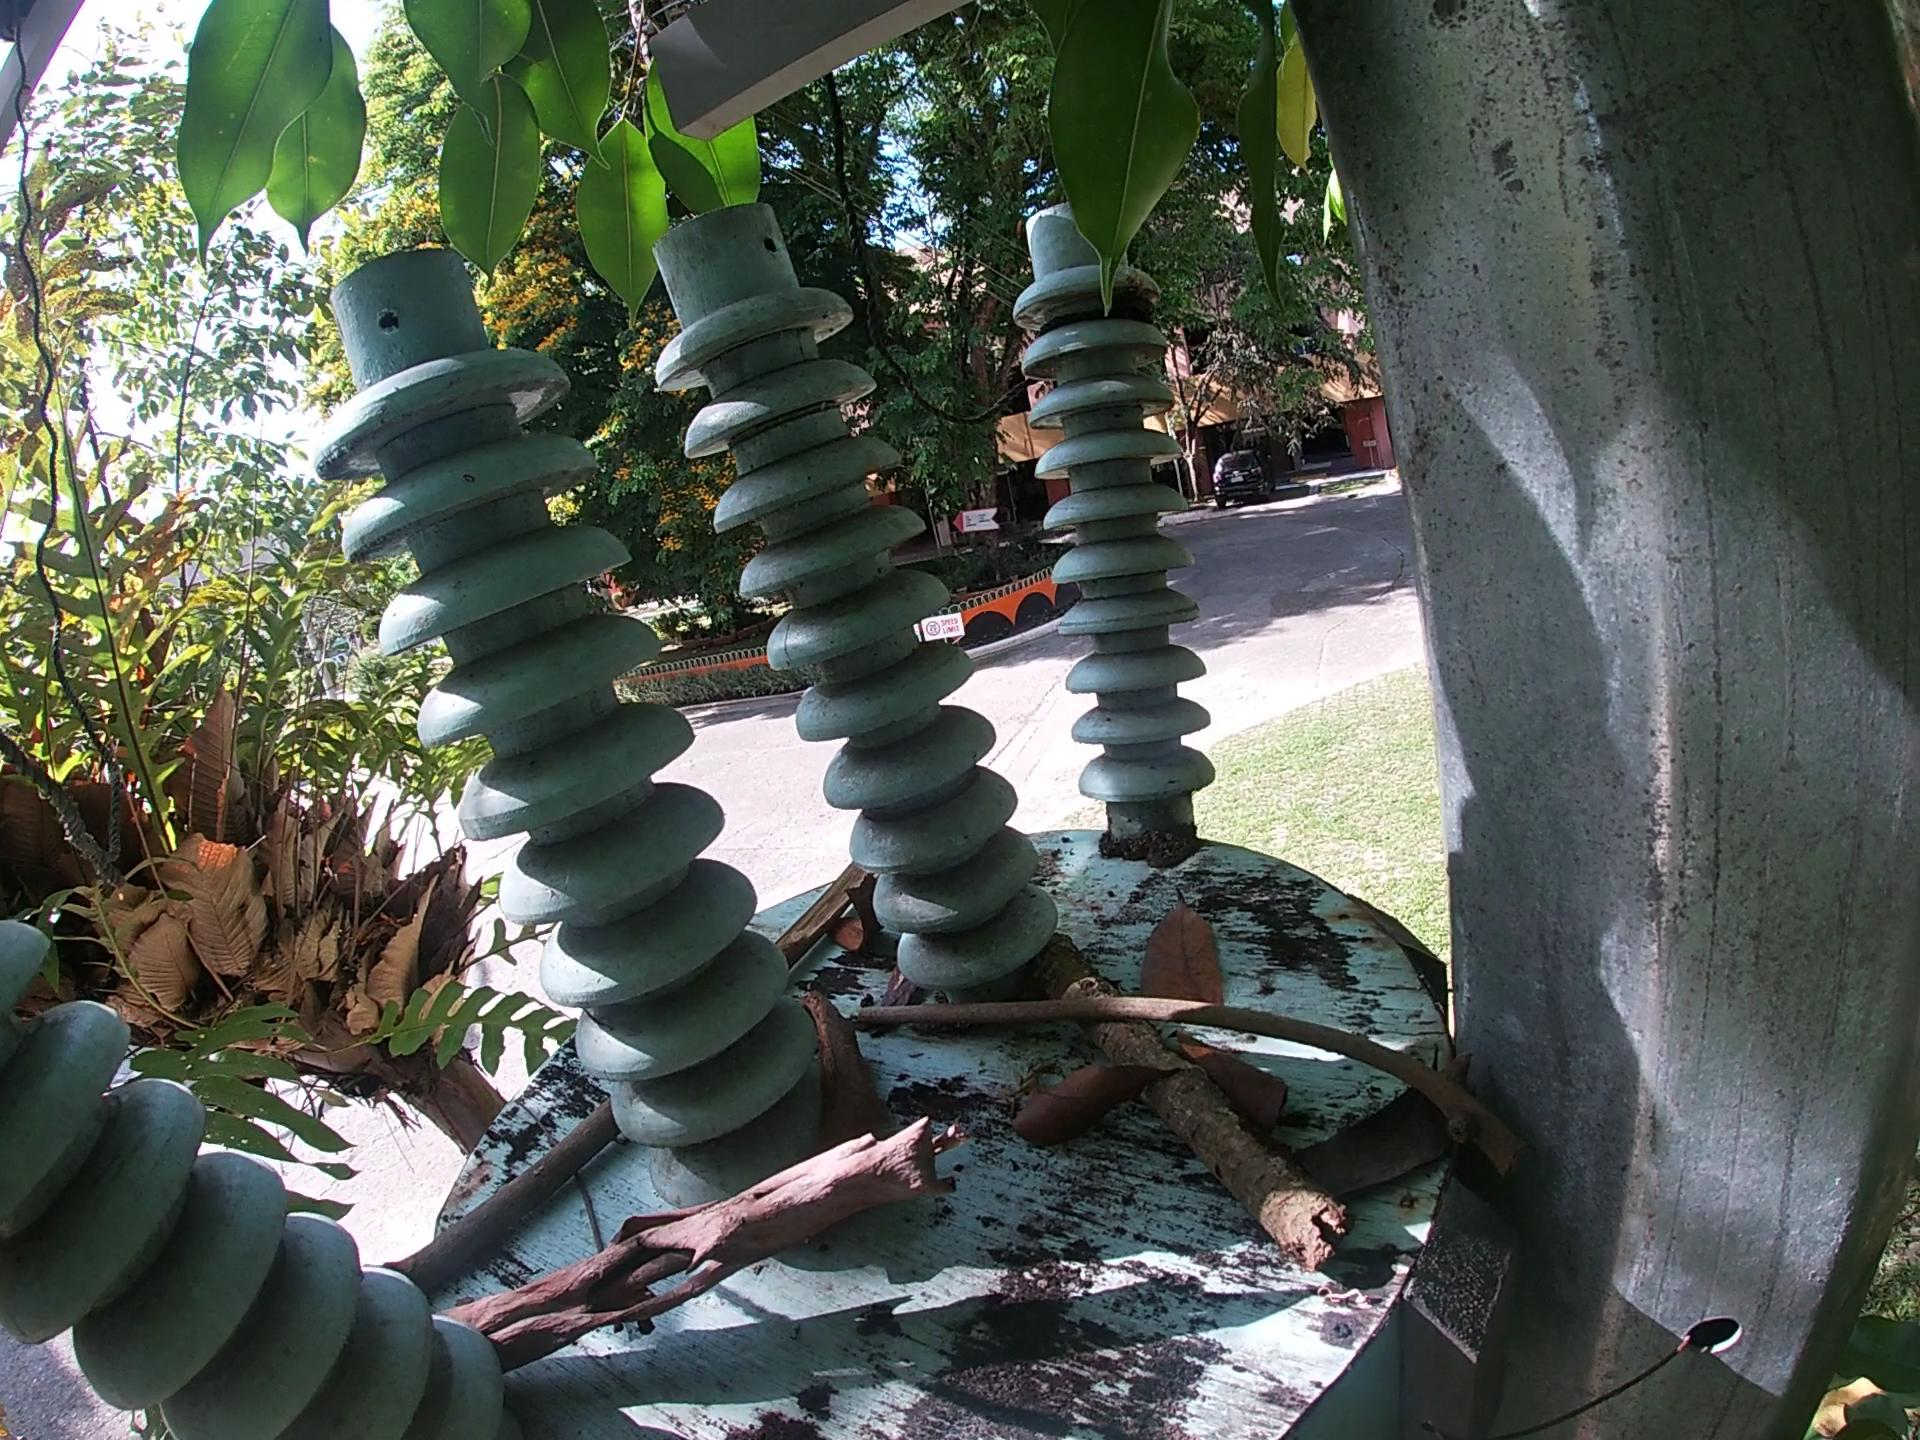leaf: (1132, 870, 1234, 1015), (1001, 1054, 1188, 1131), (1285, 1094, 1451, 1178)
mahogany fruit: (791, 995, 872, 1125), (830, 870, 890, 964)
tree branch: (441, 1109, 972, 1369), (1051, 939, 1361, 1274), (856, 1004, 1483, 1130), (386, 1091, 624, 1283), (770, 864, 872, 970), (564, 1162, 609, 1252)
